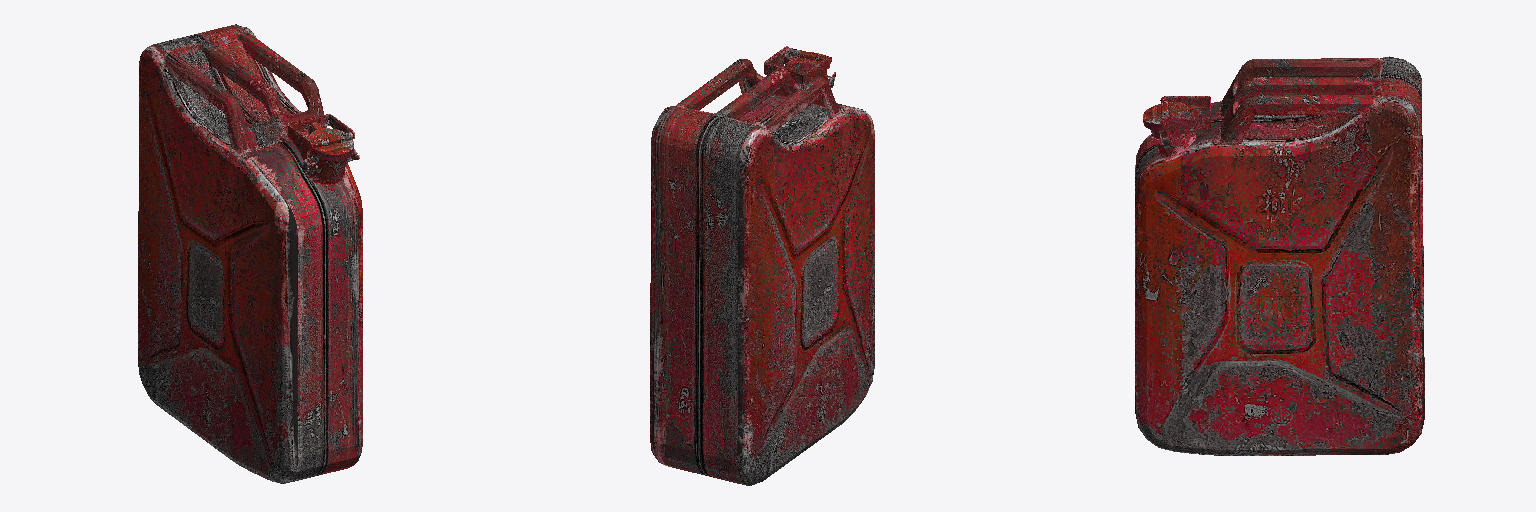
The picture shows the model from 3 angles: view 1: azimuth 30°, elevation 25°; view 2: azimuth 150°, elevation 25°; view 3: azimuth 270°, elevation 25°; orthographic projection.
Parts seen in each view (by area): view 1: Mesh; view 2: Mesh; view 3: Mesh.
Boxes of the visible parts, x1,y1,x2,y2 form: Mesh: [138, 24, 362, 483]; Mesh: [650, 46, 874, 485]; Mesh: [1135, 56, 1424, 455].
Bounding box in the file's own units: 0.2576 × 0.8621 × 0.6321.
1 materials, 1 textured.